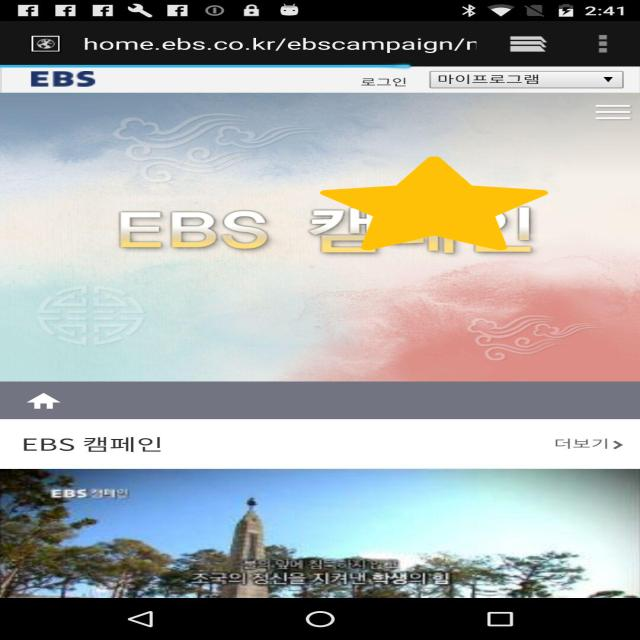forced continuity: (320, 157, 548, 250)
